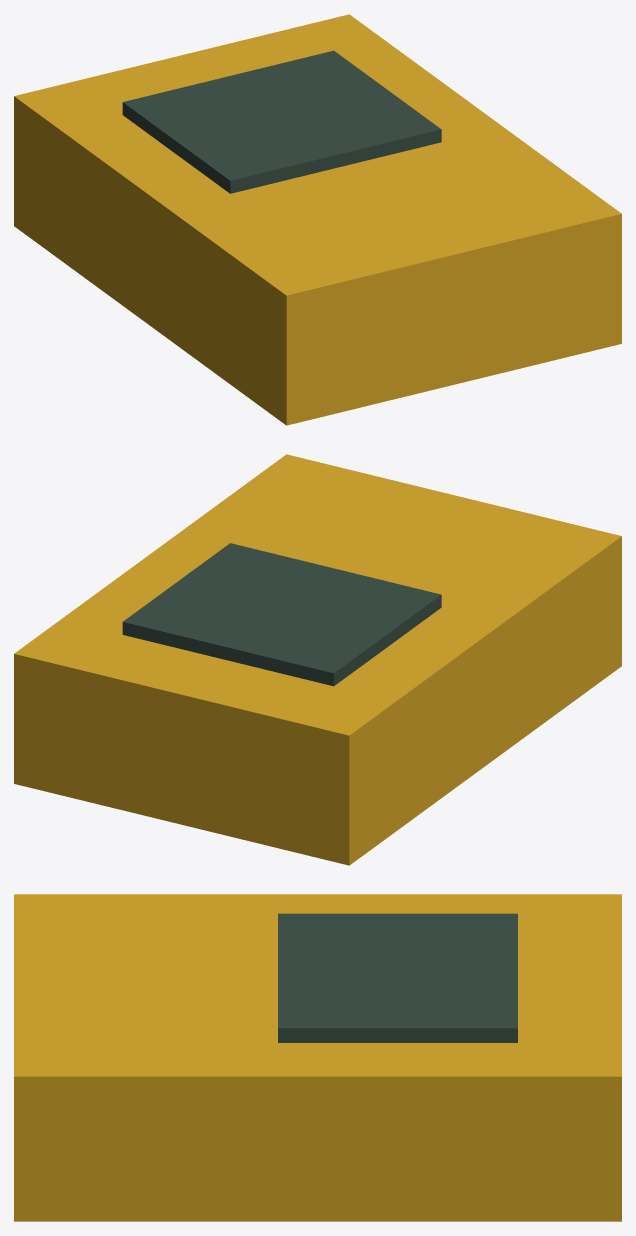
File: herr_tester.obj
The picture shows the model from 3 angles, top to bottom: view 1: azimuth 30°, elevation 25°; view 2: azimuth 150°, elevation 25°; view 3: azimuth 270°, elevation 25°; orthographic projection. The views are drawn at different scales.
Visible parts, largest first — view 1: herr_tester.001, herr_tester.002; view 2: herr_tester.001, herr_tester.002; view 3: herr_tester.001, herr_tester.002.
Boxes of the visible parts, x1=… form: herr_tester.001: x1=14, y1=14, x2=621, y2=425; herr_tester.002: x1=122, y1=50, x2=441, y2=193; herr_tester.001: x1=14, y1=454, x2=621, y2=865; herr_tester.002: x1=122, y1=543, x2=441, y2=686; herr_tester.001: x1=14, y1=894, x2=621, y2=1221; herr_tester.002: x1=278, y1=913, x2=517, y2=1042.
Bounding box in the file's own units: 0.054 × 0.022 × 0.076.
